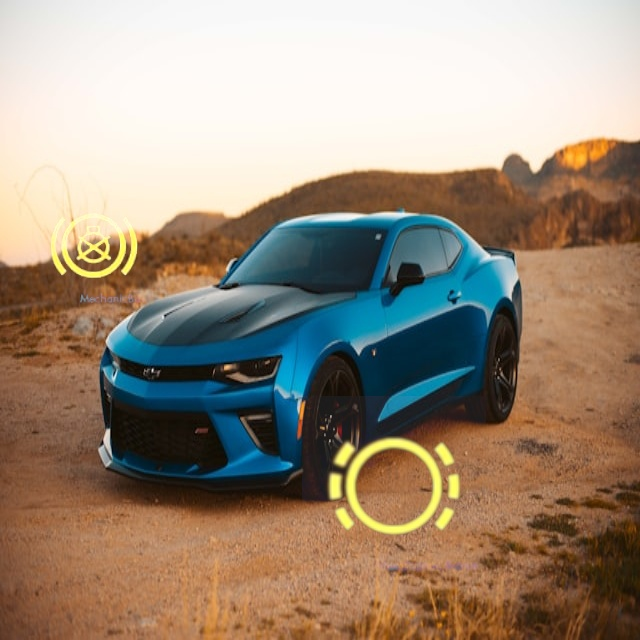symbol: (302, 396, 486, 580), (114, 49, 246, 181), (31, 184, 156, 309)
